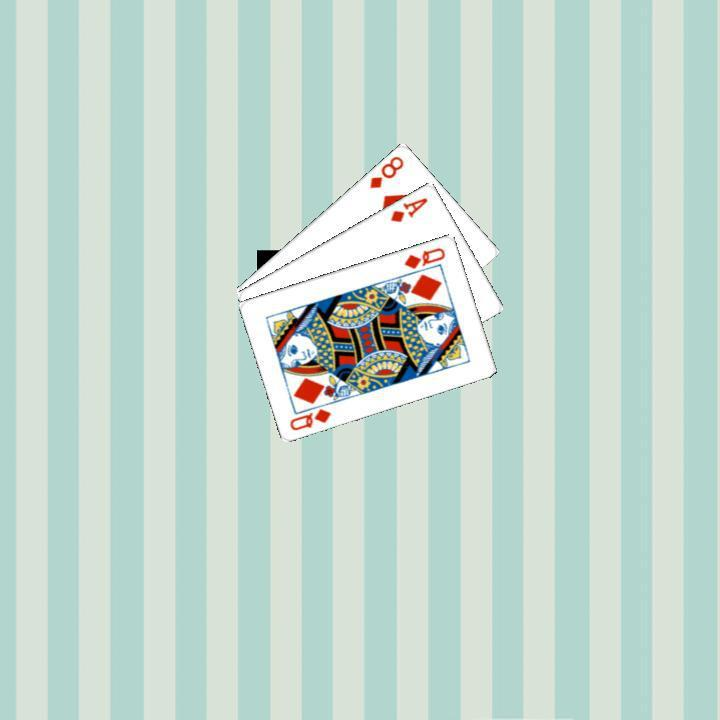8: (365, 151, 406, 190)
A: (386, 193, 430, 224)
Q: (285, 404, 333, 432), (400, 243, 447, 271)
